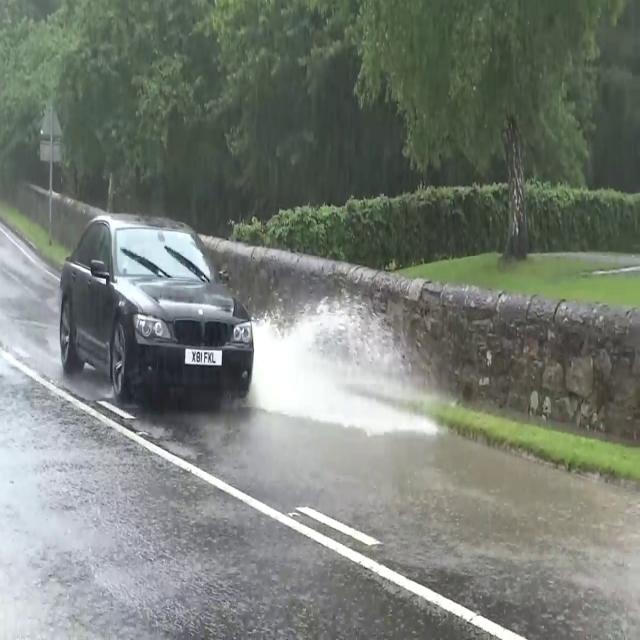license-plate-annotation: (189, 349, 226, 365)
